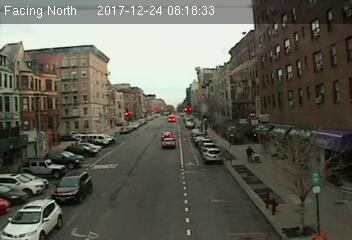car: (1, 197, 63, 240), (53, 171, 93, 205), (202, 147, 221, 164), (162, 138, 176, 148)
pedestrian: (245, 145, 254, 162)
